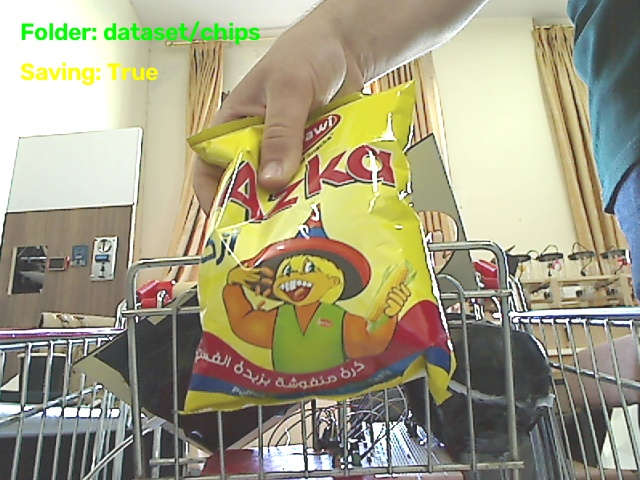chips: (185, 83, 454, 412)
